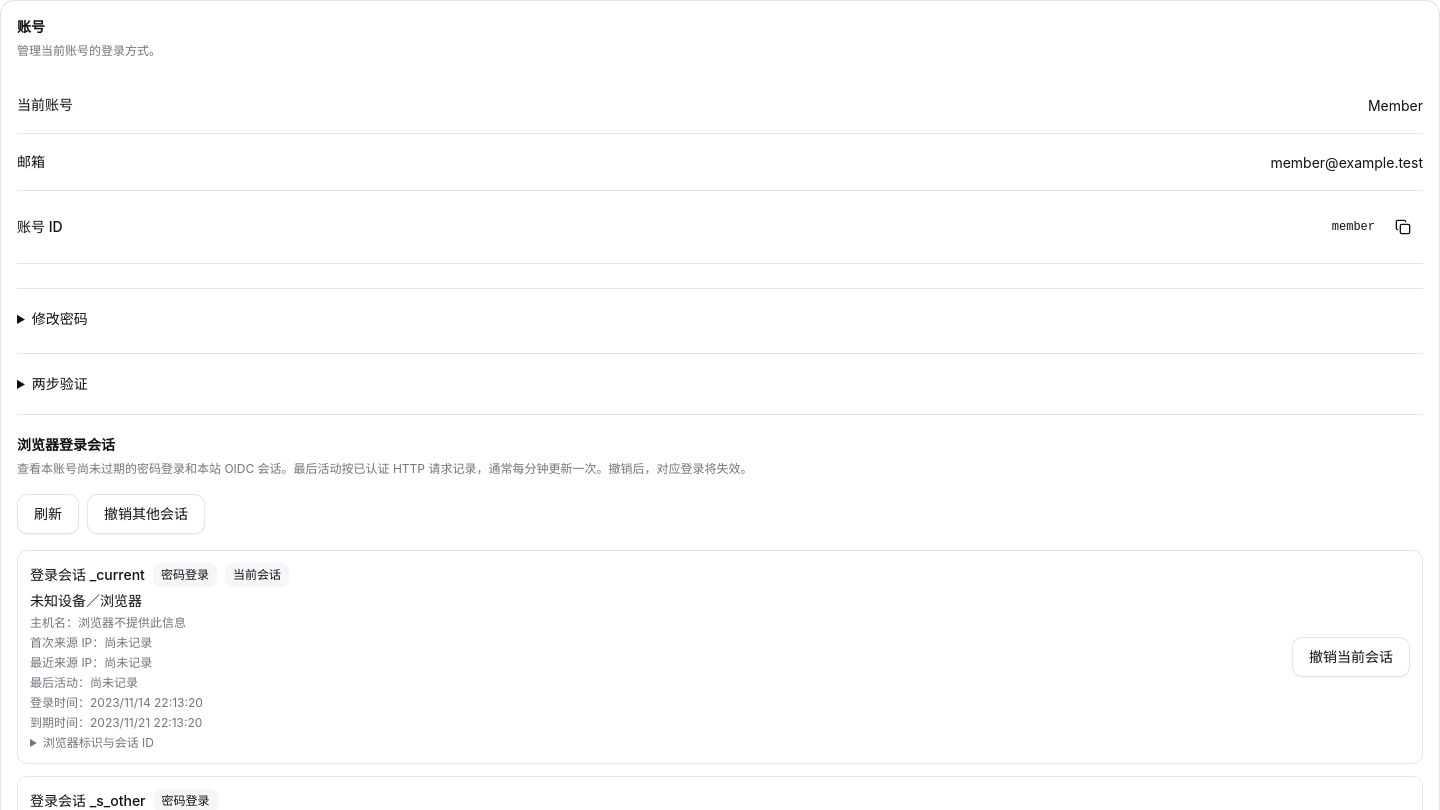
Test case: Account browser sessions › keeps failed revocation visible and does not log out prematurely
The image size is (1440, 810).
Click the button "撤销当前会话": (1351, 657) 1292,637 -> 1410,677
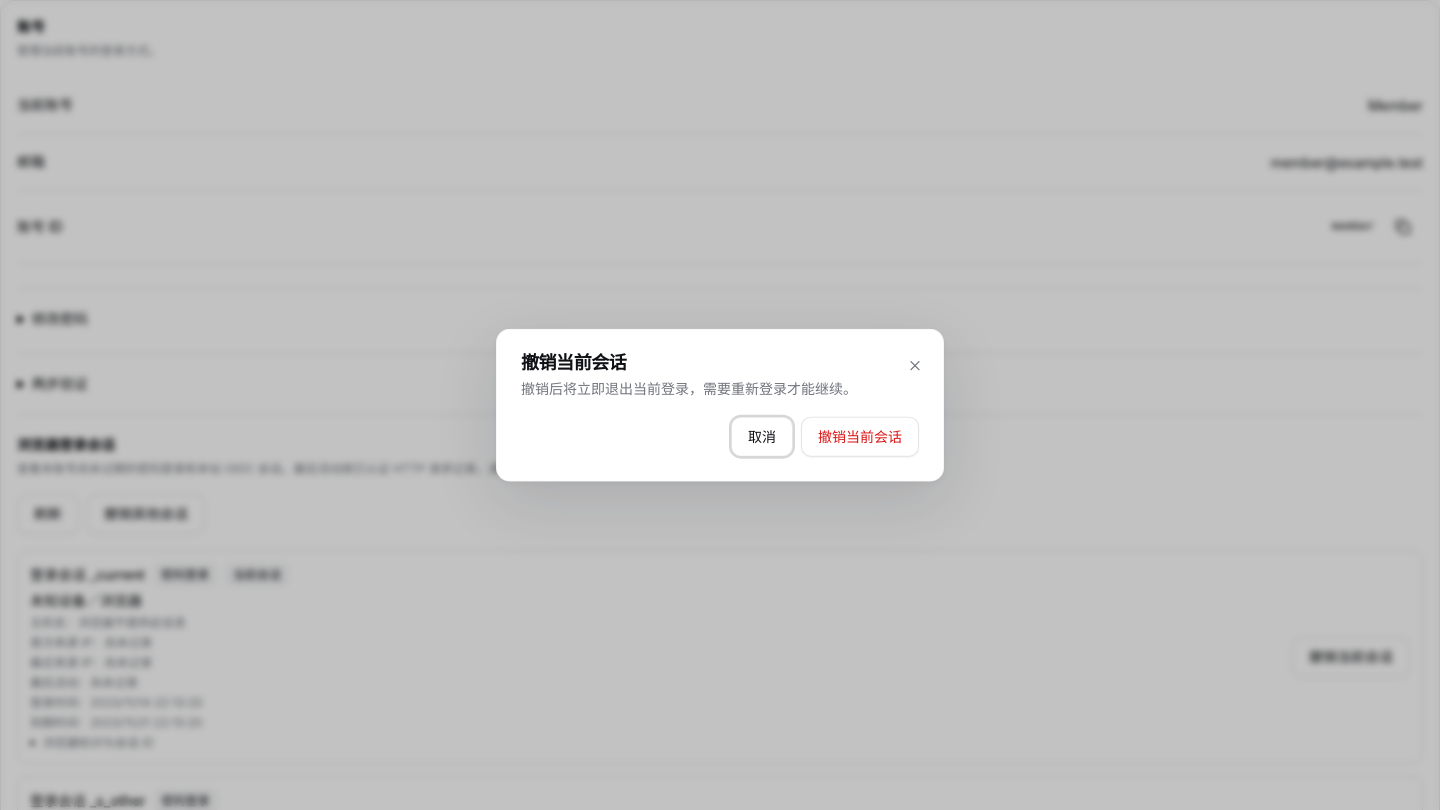
Click the button "撤销当前会话": (860, 436) 801,416 -> 919,456
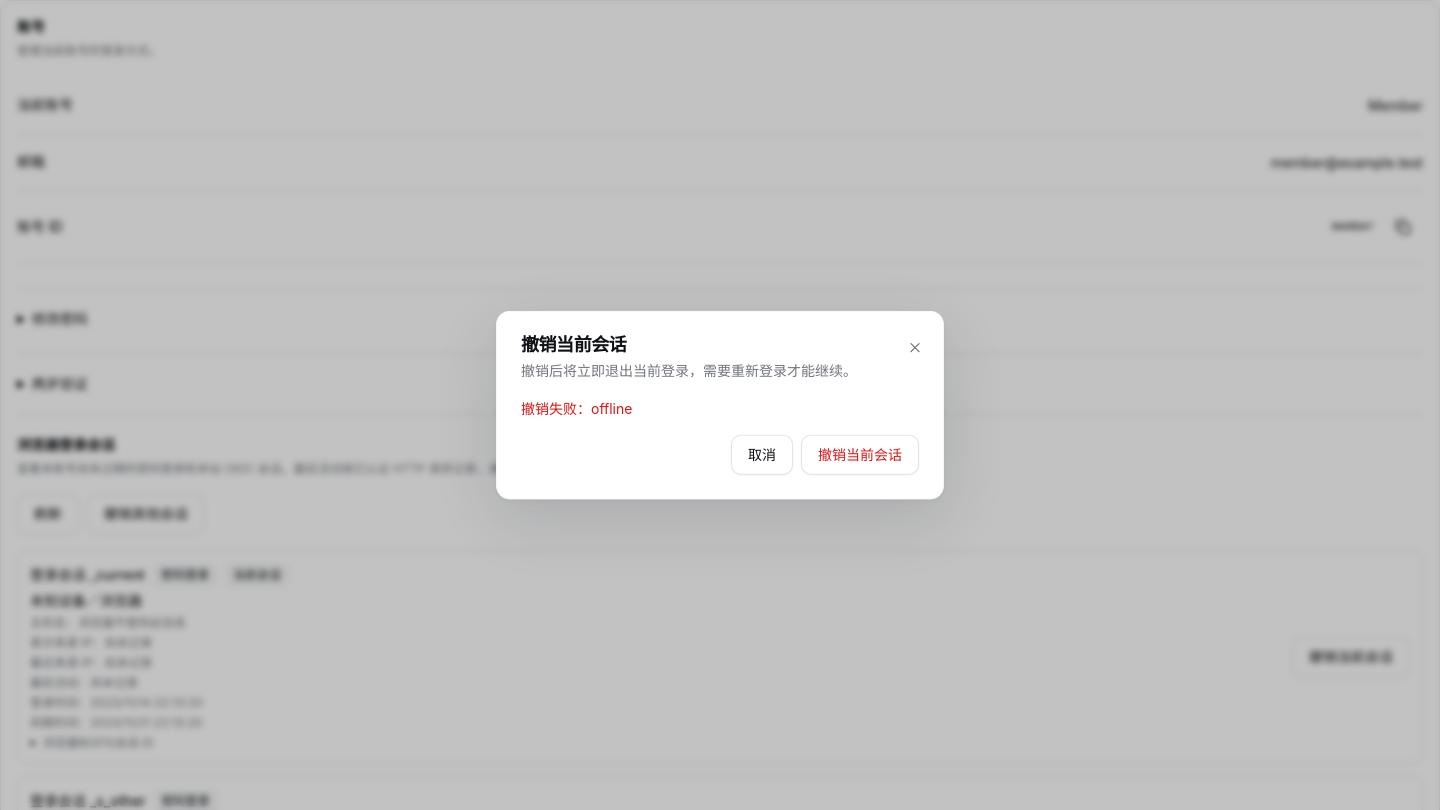
Expected: the message "撤销失败：offline" is shown, 521,399 -> 632,416
